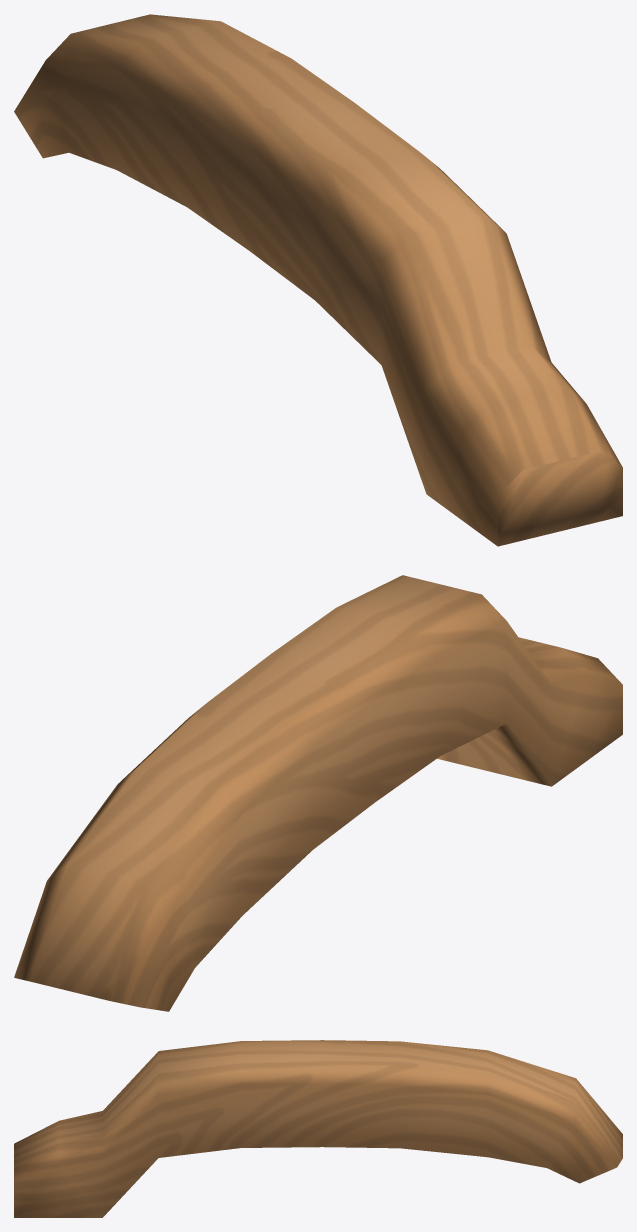
The model's file is diningRoom_handle.fbx.
3 renders of one model, top to bottom at view 1: azimuth 30°, elevation 25°; view 2: azimuth 150°, elevation 25°; view 3: azimuth 270°, elevation 25°, orthographic. The views are drawn at different scales.
Visible parts, largest first — view 1: handle; view 2: handle; view 3: handle.
Boxes of the visible parts, box(x1,y1,x2,y2) form: handle: box(14, 14, 622, 546); handle: box(14, 575, 622, 1011); handle: box(14, 1040, 622, 1217).
Size of the model in its own units: 3.67 by 6.64 by 24.89.
